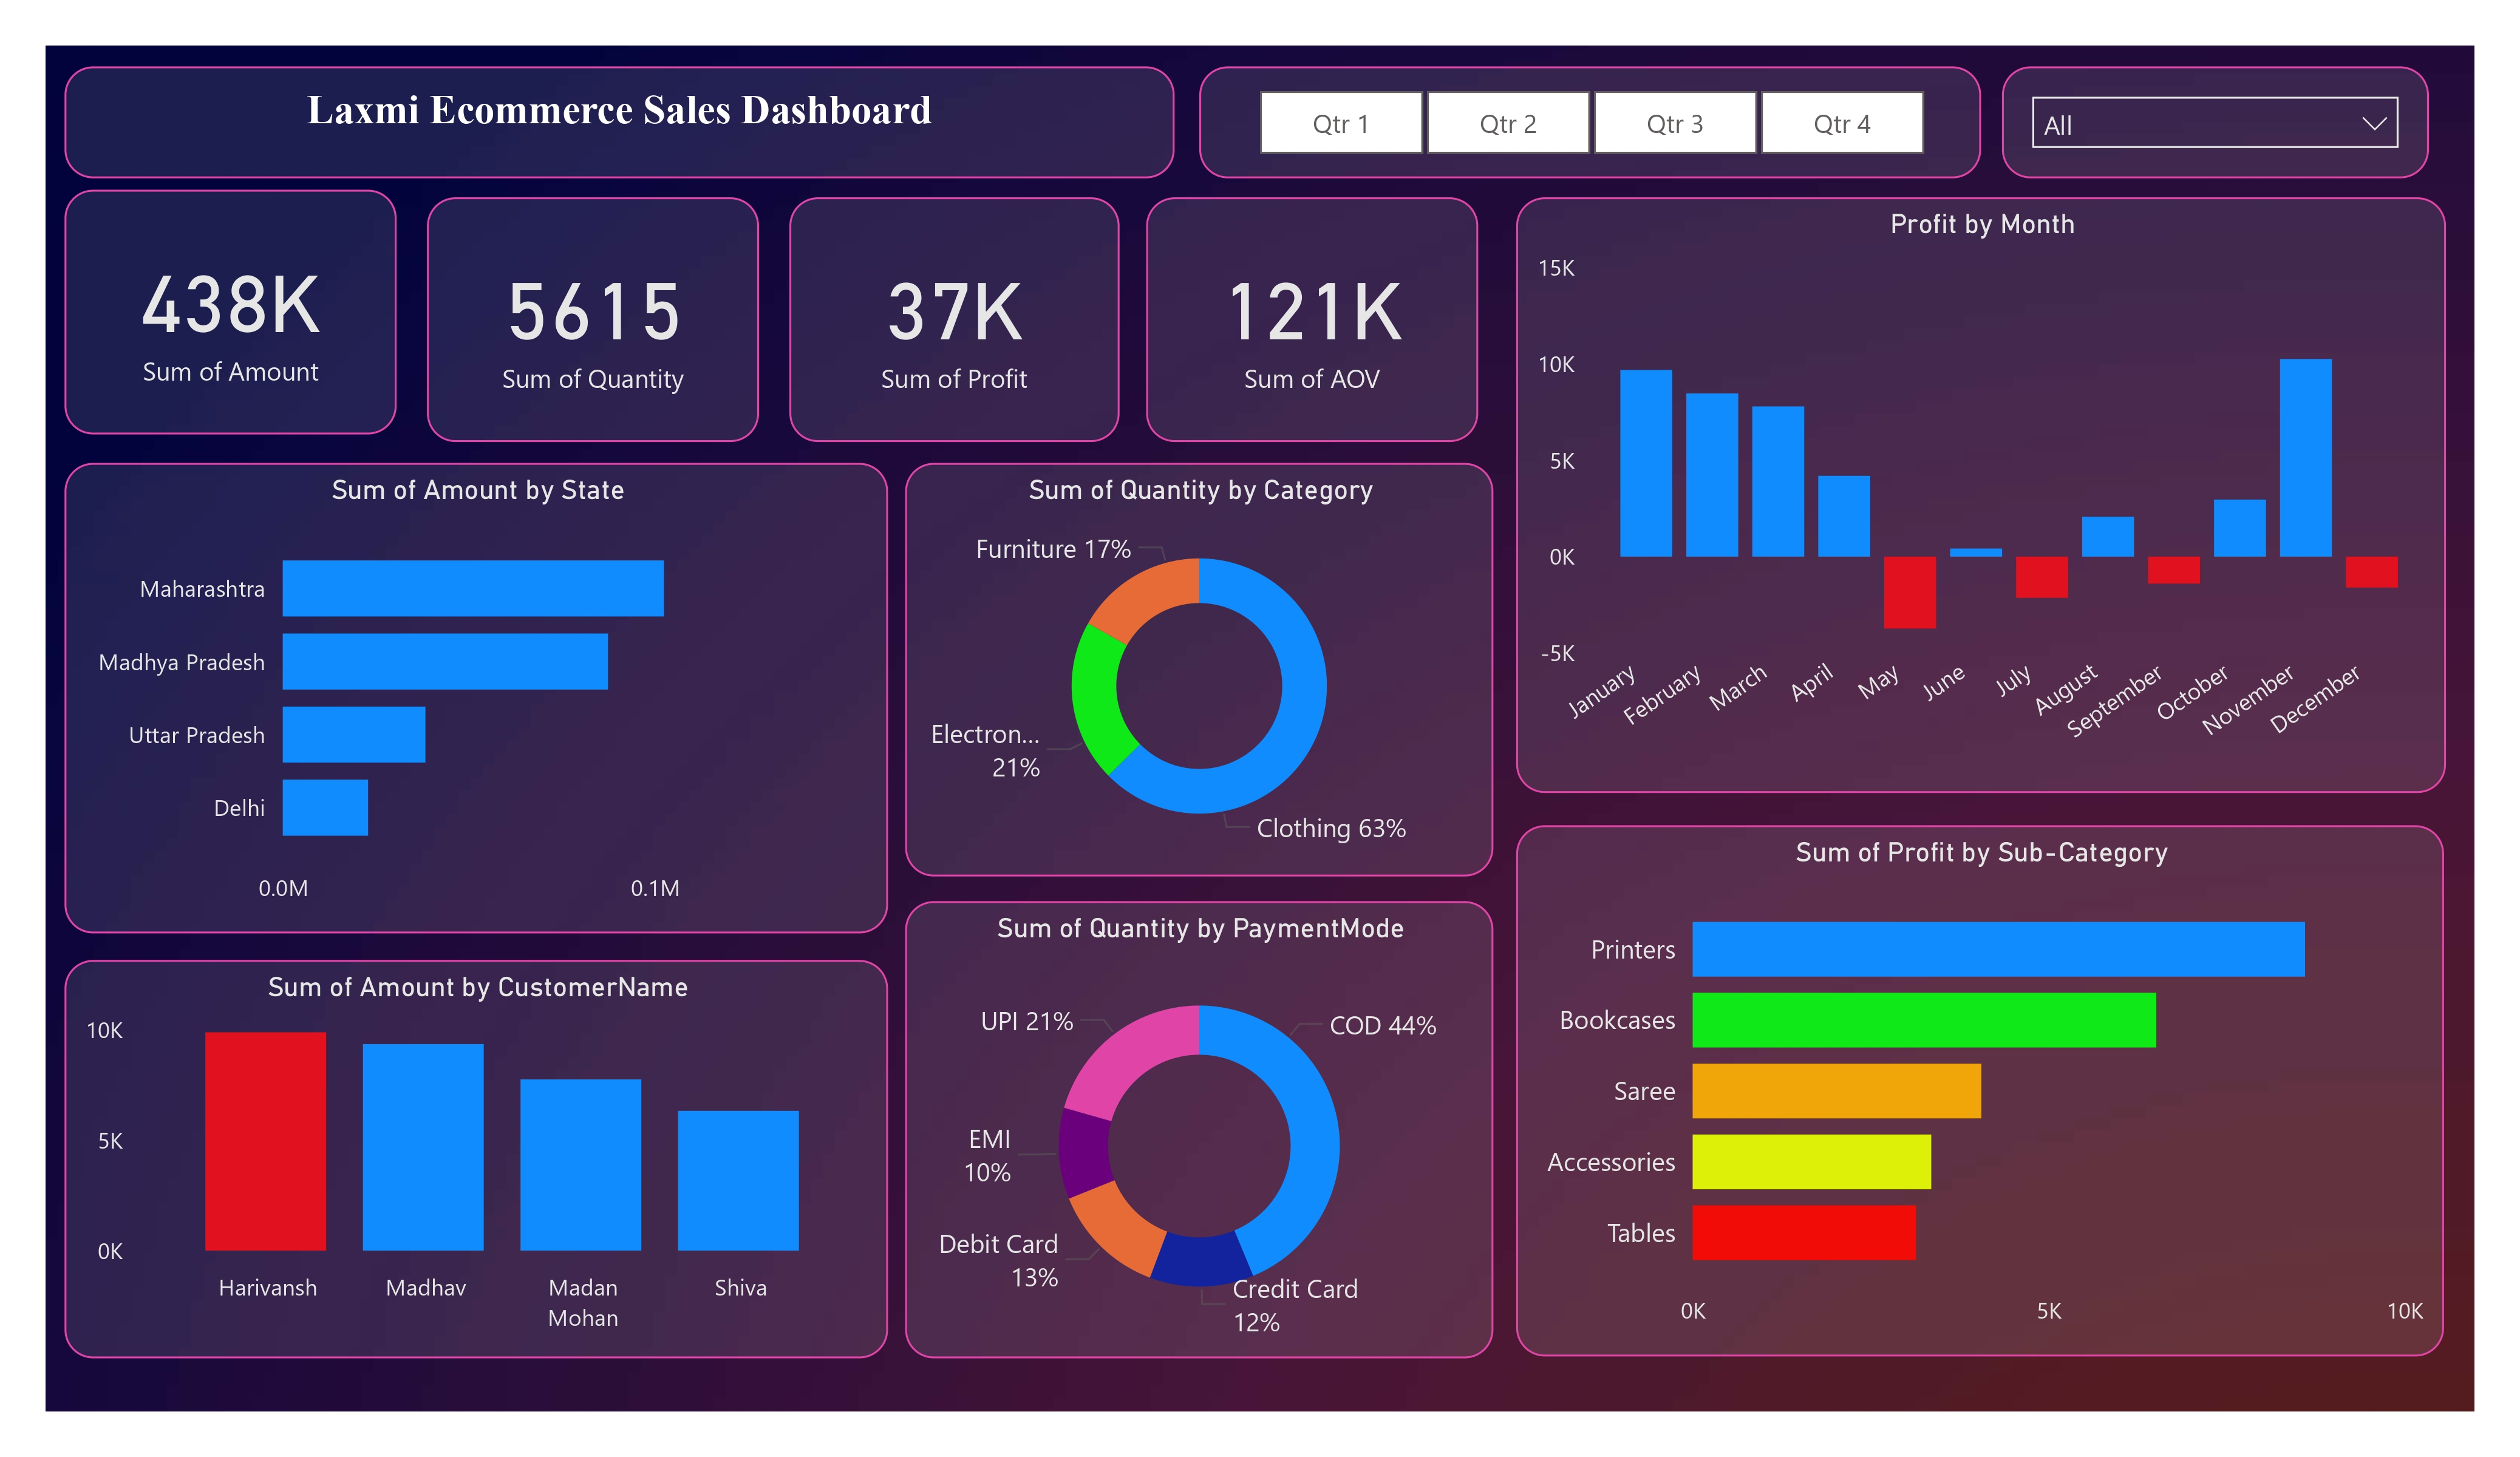

The dashboard page shown, as its layout file describes it:
{"tool":"powerbi","page":{"name":"Page 1","canvas":[1280,720],"ordinal":0},"visuals":[{"type":"textbox","box":[10,11.2,585,58.8],"z":0},{"type":"columnChart","title":"Profit by Month","fields":{"Category":["Orders.Order Date.Variation.Date Hierarchy.Month"],"Y":["Sum(Details.Profit)"]},"box":[774.5,80,490,313.6],"z":1000},{"type":"barChart","fields":{"Category":["Details.Sub-Category"],"Y":["Sum(Details.Profit)"]},"box":[774.5,411.4,489.8,279.9],"z":2000},{"type":"donutChart","fields":{"Category":["Details.Category"],"Y":["Sum(Details.Quantity)"]},"box":[452.7,220,310,218.2],"z":3000},{"type":"donutChart","fields":{"Y":["Sum(Details.Quantity)"],"Series":["Details.PaymentMode"]},"box":[452.7,450.9,310,240.9],"z":4000},{"type":"card","fields":{"Values":["Sum(Details.Amount)"]},"box":[10,76.4,174.5,129.1],"z":5000},{"type":"card","fields":{"Values":["Sum(Details.Quantity)"]},"box":[200.9,80,175.5,129.1],"z":6000},{"type":"card","fields":{"Values":["Sum(Details.Profit)"]},"box":[391.8,80,174.5,129.1],"z":7000},{"type":"card","fields":{"Values":["Sum(Details.aov)"]},"box":[580,80,175.5,129.1],"z":8000},{"type":"barChart","fields":{"Category":["Orders.State"],"Y":["Sum(Details.Amount)"]},"box":[10,220,433.6,248.2],"z":9000},{"type":"columnChart","fields":{"Category":["Orders.CustomerName"],"Y":["Sum(Details.Amount)"]},"box":[10,481.8,433.6,210],"z":10000},{"type":"slicer","fields":{"Values":["Orders.Order Date.Variation.Date Hierarchy.Quarter"]},"box":[607.5,11.2,412.5,58.8],"z":10001},{"type":"slicer","fields":{"Values":["Orders.State"]},"box":[1031.2,11.2,225,58.8],"z":10002}]}

Visuals, with their boxes in screenshot pixels (x1, y1, x2, y2):
textbox: {"x1": 39, "y1": 0, "x2": 1175, "y2": 38}
"Profit by Month" columnChart: {"x1": 1524, "y1": 57, "x2": 2474, "y2": 665}
barChart - Details.Sub-Category x Sum(Details.Profit): {"x1": 1524, "y1": 700, "x2": 2474, "y2": 1243}
donutChart - Details.Category x Sum(Details.Quantity): {"x1": 899, "y1": 328, "x2": 1500, "y2": 752}
donutChart - Sum(Details.Quantity) x Details.PaymentMode: {"x1": 899, "y1": 777, "x2": 1500, "y2": 1245}
card - Sum(Details.Amount): {"x1": 39, "y1": 50, "x2": 378, "y2": 301}
card - Sum(Details.Quantity): {"x1": 410, "y1": 57, "x2": 751, "y2": 307}
card - Sum(Details.Profit): {"x1": 780, "y1": 57, "x2": 1119, "y2": 307}
card - Sum(Details.aov): {"x1": 1146, "y1": 57, "x2": 1486, "y2": 307}
barChart - Orders.State x Sum(Details.Amount): {"x1": 39, "y1": 328, "x2": 881, "y2": 810}
columnChart - Orders.CustomerName x Sum(Details.Amount): {"x1": 39, "y1": 837, "x2": 881, "y2": 1245}
slicer - Orders.Order Date.Variation.Date Hierarchy.Quarter: {"x1": 1199, "y1": 0, "x2": 2000, "y2": 38}
slicer - Orders.State: {"x1": 2022, "y1": 0, "x2": 2459, "y2": 38}
